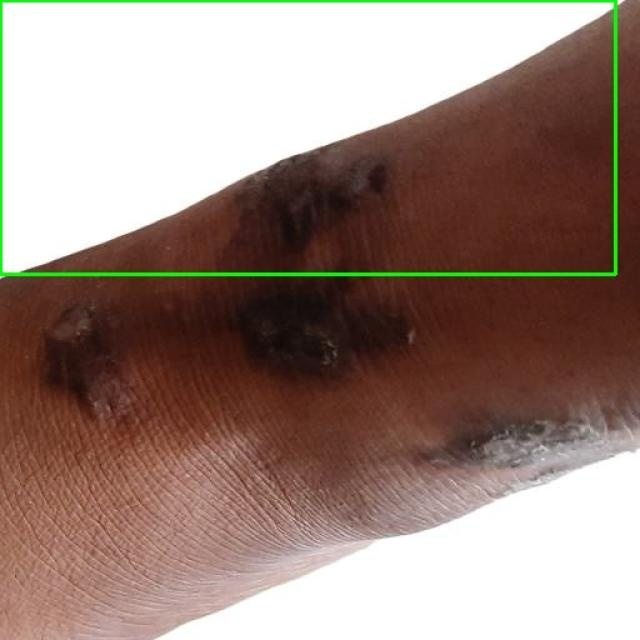Contact Dermatitis: (0, 0, 616, 275)
